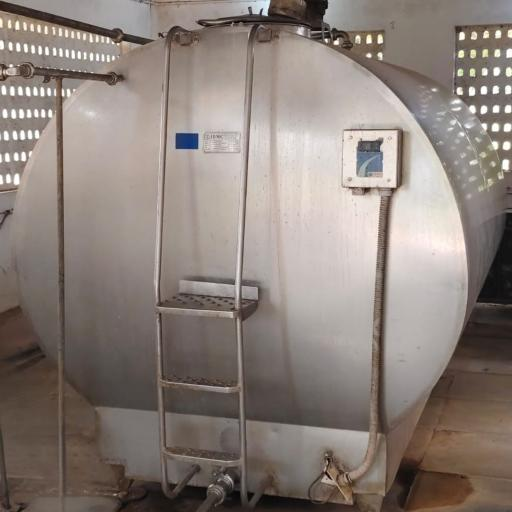silo: (11, 3, 509, 507)
